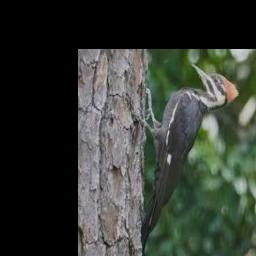Woodpecker: (140, 64, 240, 256)
